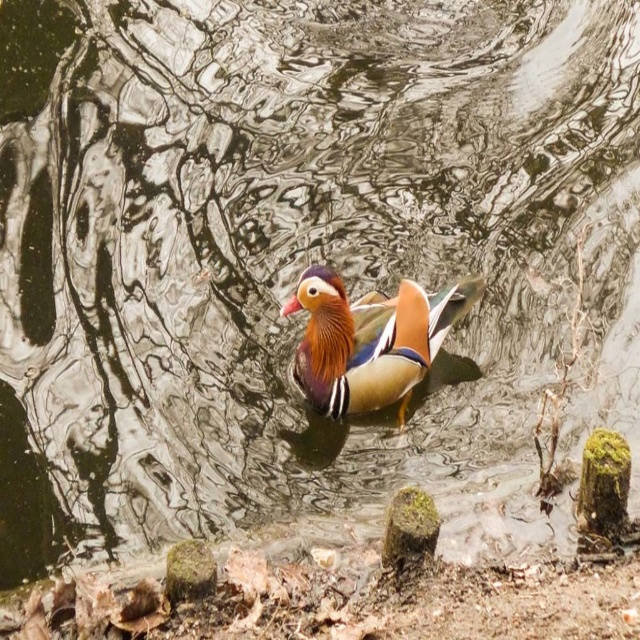Duck: (271, 266, 479, 439)
